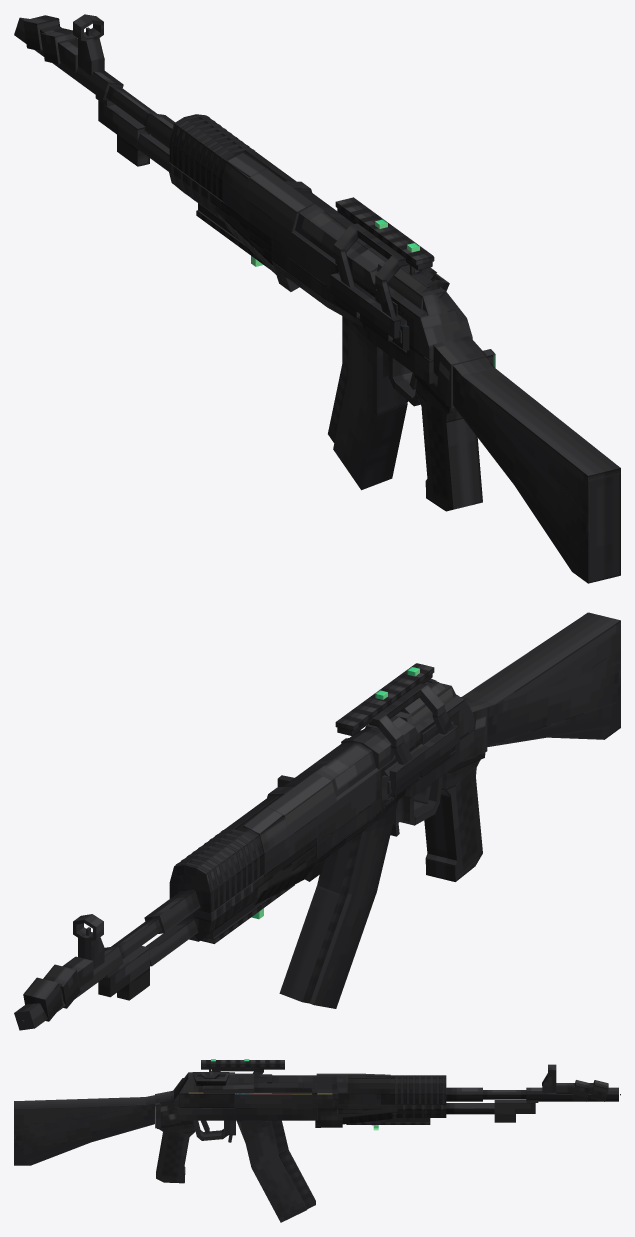
The picture shows the model from 3 angles, top to bottom: view 1: azimuth 30°, elevation 25°; view 2: azimuth 150°, elevation 25°; view 3: azimuth 270°, elevation 25°; orthographic projection. The views are drawn at different scales.
Visible parts, largest first — view 1: weapon, magazine, scopemount, grip; view 2: weapon, magazine, scopemount, grip, underrail; view 3: weapon, magazine, grip, scopemount, underrail, action.
Part boxes in pixels (<box>): weapon: <box>14,14,620,583</box>; magazine: <box>328,316,407,490</box>; scopemount: <box>330,197,434,341</box>; grip: <box>414,374,482,511</box>; weapon: <box>14,612,620,1030</box>; magazine: <box>279,800,398,1008</box>; scopemount: <box>335,663,459,797</box>; grip: <box>424,753,485,881</box>; underrail: <box>200,884,294,943</box>; weapon: <box>14,1064,618,1165</box>; magazine: <box>236,1120,315,1222</box>; grip: <box>156,1120,195,1183</box>; scopemount: <box>201,1060,284,1074</box>; underrail: <box>346,1118,430,1124</box>; action: <box>253,1088,317,1097</box>.
Bounding box in the file's own units: 0.5811 × 2.15 × 7.68.
